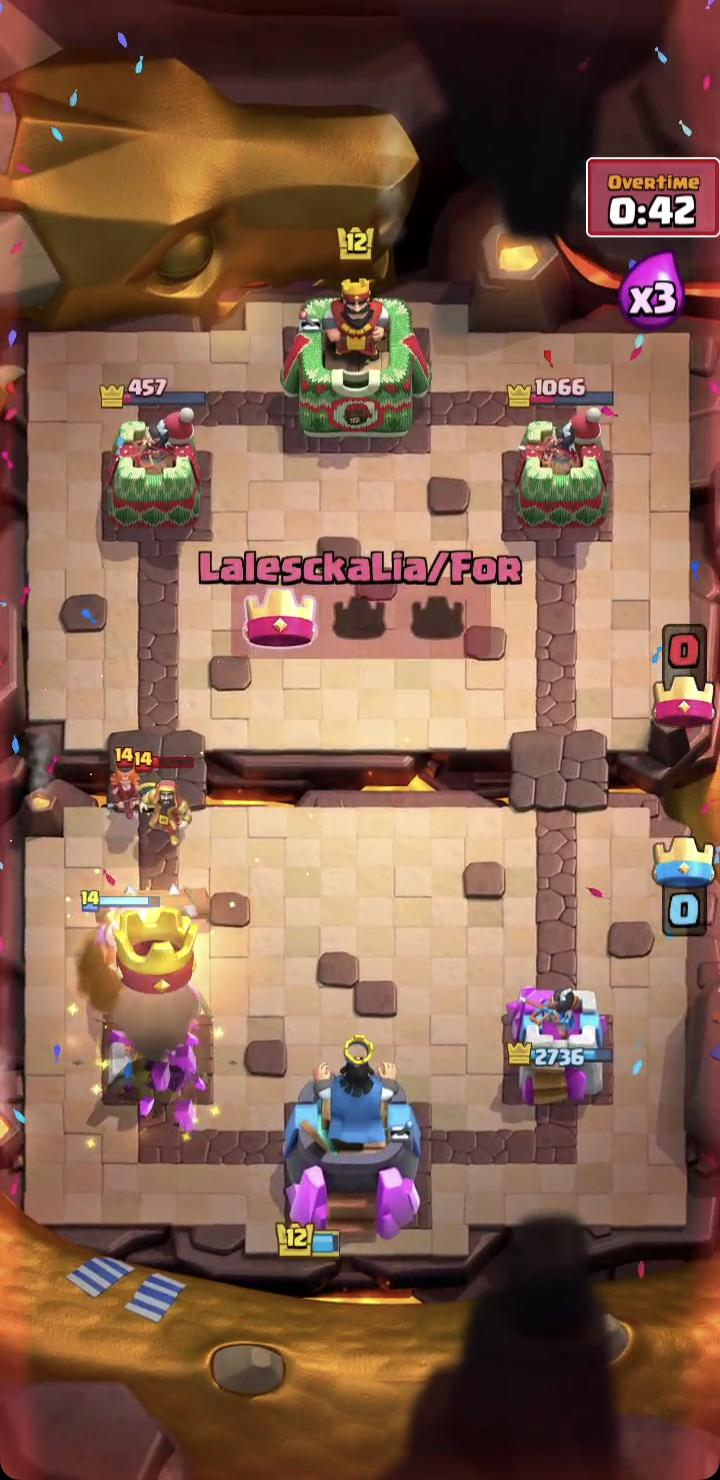enemy_valkyrie: (106, 747, 155, 820)
enemy_wizard: (133, 751, 196, 847)
